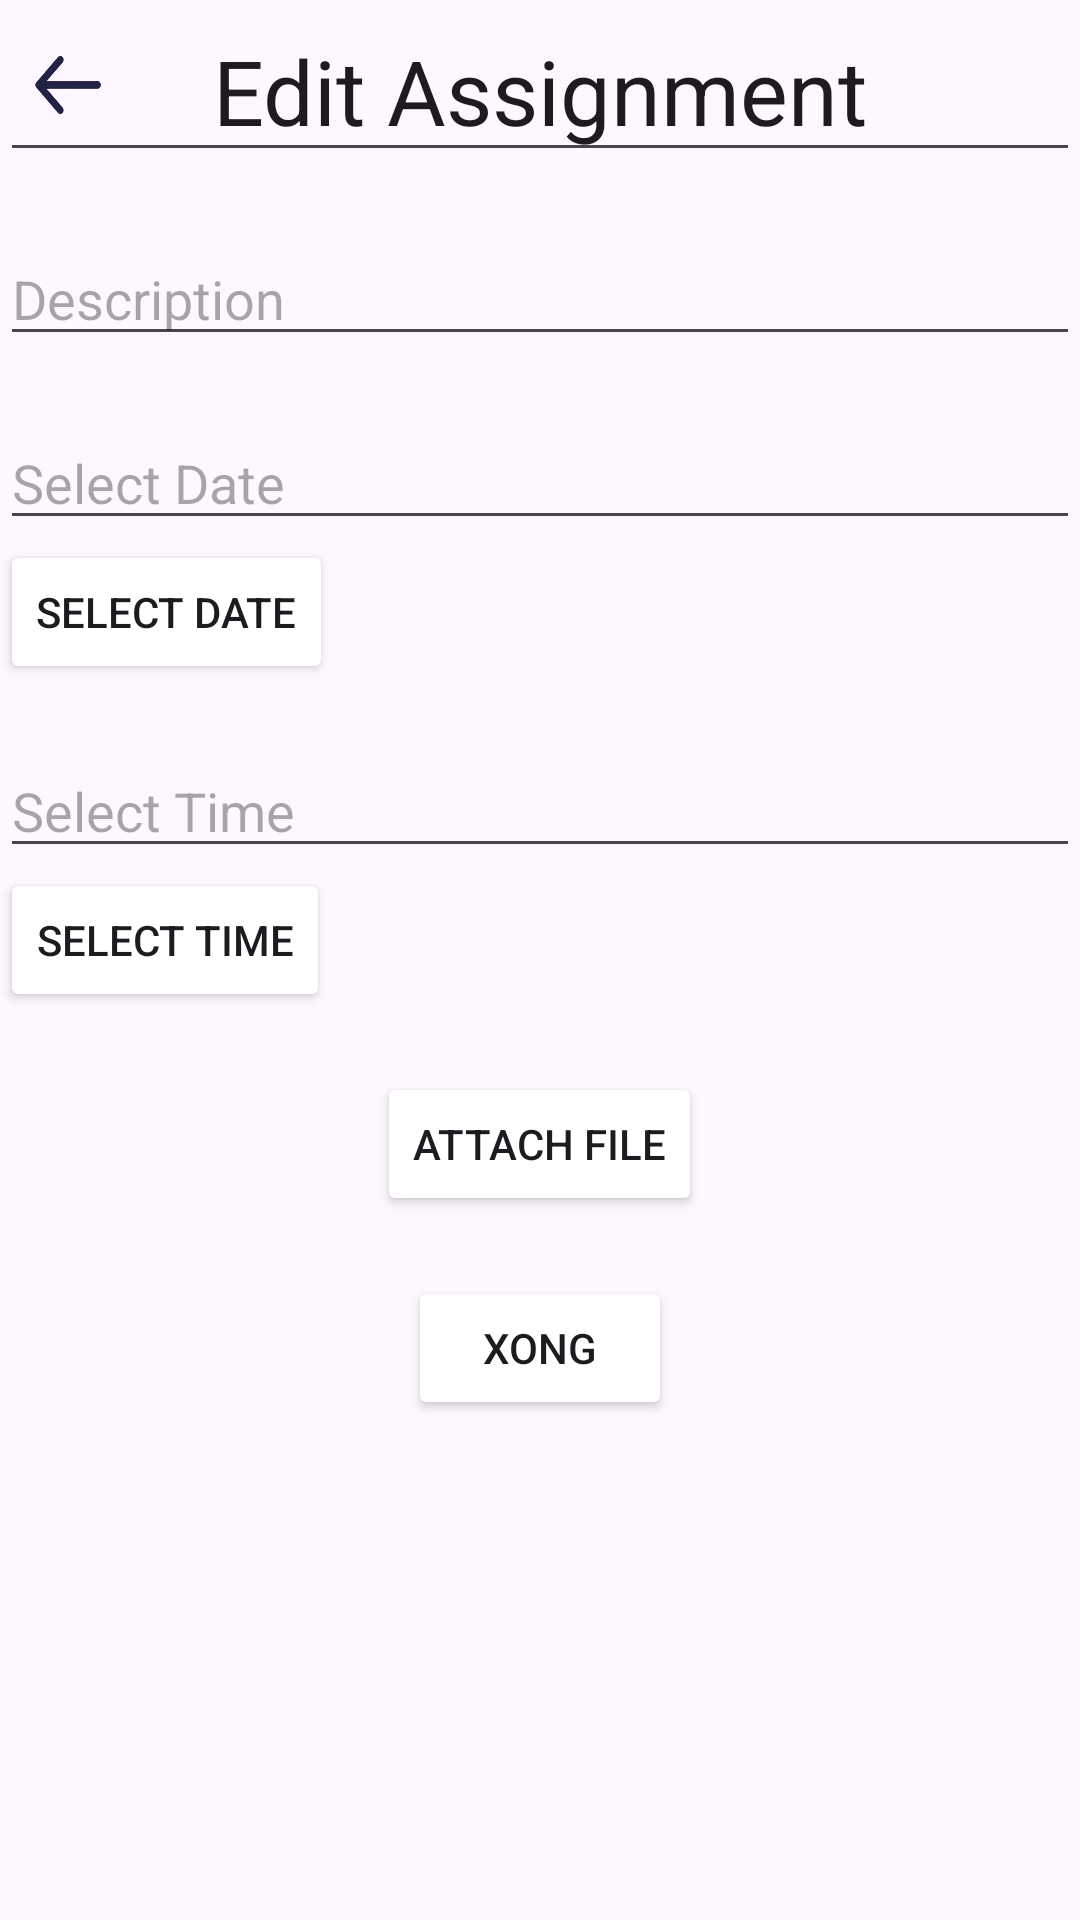

Icons on this 1080x1920 Android screen, each with the point to tap as (x=x, y=y):
back: (x=68, y=85)
